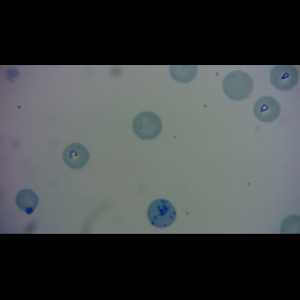aggregate reticulocyte: (145, 197, 178, 229)
erythrocyte: (252, 94, 281, 124), (14, 188, 40, 215)
punctate reticulocyte: (220, 69, 255, 102), (132, 110, 164, 141), (268, 64, 300, 92), (62, 142, 90, 170)
